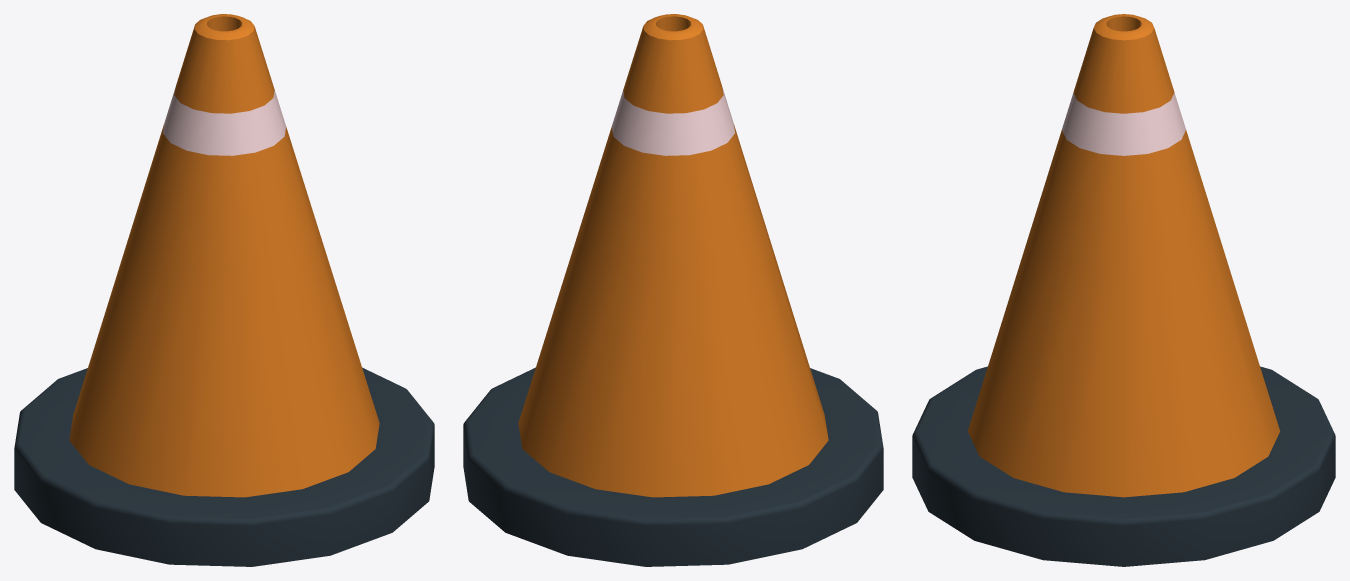
The picture shows the model from 3 angles, left to right: view 1: azimuth 30°, elevation 25°; view 2: azimuth 150°, elevation 25°; view 3: azimuth 270°, elevation 25°; orthographic projection.
Parts seen in each view (by area): view 1: TrafficCone; view 2: TrafficCone; view 3: TrafficCone.
Part boxes in pixels (left/top/right/bottom): TrafficCone: left=14, top=14, right=434, bottom=566; TrafficCone: left=463, top=14, right=883, bottom=566; TrafficCone: left=912, top=14, right=1335, bottom=566.
Size of the model in its own units: 68.29 by 80.74 by 68.29.
